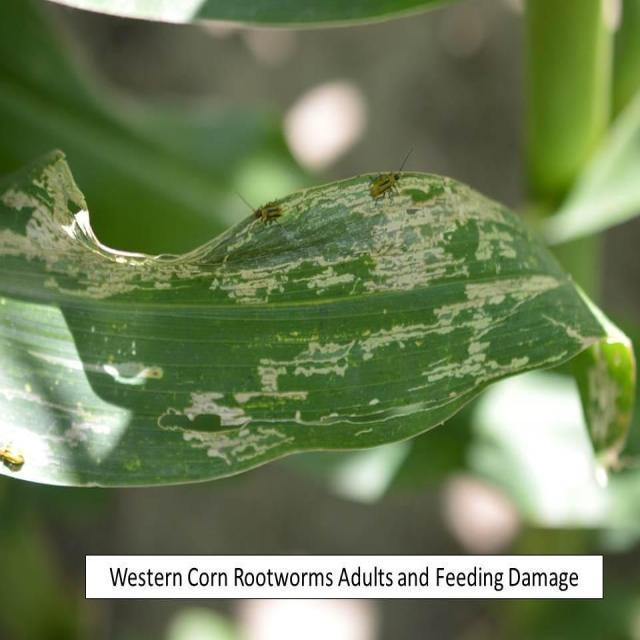trips: (366, 150, 409, 202), (236, 187, 286, 230), (0, 440, 25, 471)
